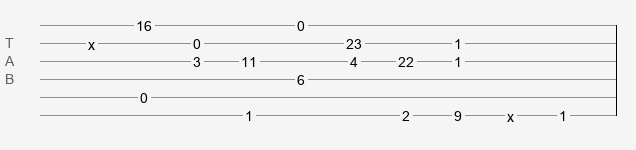0: (140, 90, 148, 100), (193, 36, 201, 46), (297, 18, 305, 28)
1: (245, 108, 253, 118), (454, 36, 462, 46), (454, 54, 462, 64), (559, 108, 567, 118)
11: (241, 54, 257, 64)
16: (136, 18, 152, 28)
2: (402, 108, 410, 118)
22: (398, 54, 414, 64)
23: (346, 36, 362, 46)
3: (193, 54, 201, 64)
4: (350, 54, 358, 64)
6: (297, 72, 305, 82)
9: (454, 108, 462, 118)
x: (88, 37, 95, 45), (507, 109, 514, 117)
